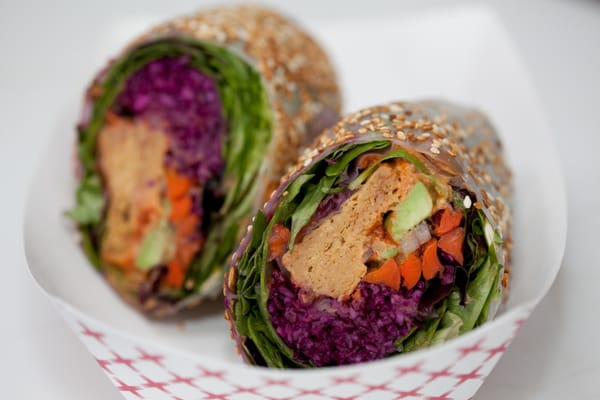soup: (68, 2, 344, 316), (225, 99, 516, 371)
